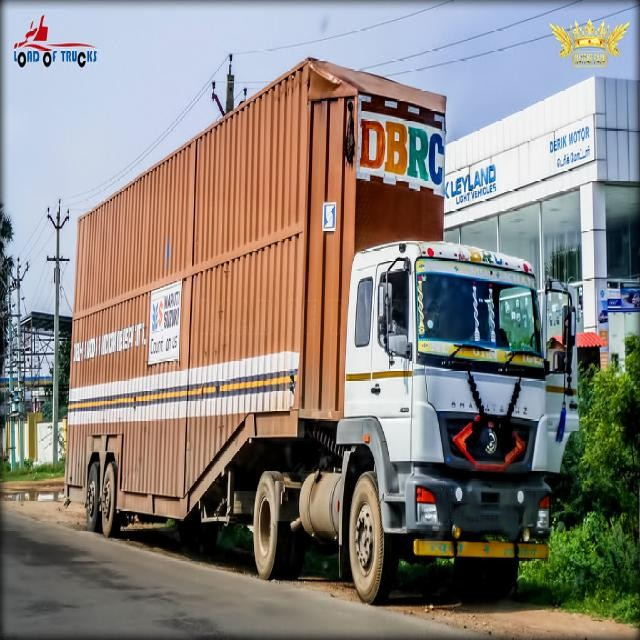truck: (66, 53, 579, 610)
